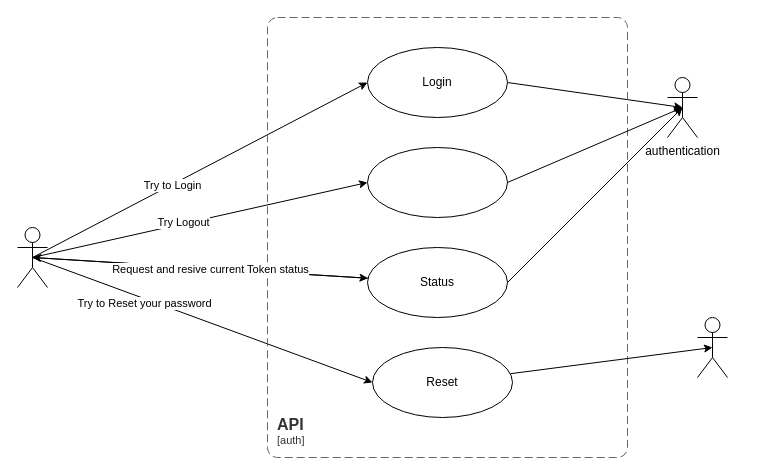
The diagram is 766 pixels wide and 475 high, and some of its shapes have lost their labels. The shapes that lost their labels are listed below. From the top down, each one's centre as x and y in pixels, then its label:
At [437,182]: "Logout".
At [32,257]: "User".
At [712,347]: "Reset service".
